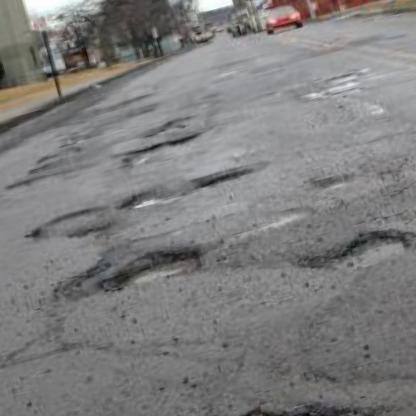pothole: (166, 367, 416, 416), (292, 217, 416, 286), (93, 233, 212, 298), (125, 123, 207, 158), (117, 179, 189, 217), (188, 155, 261, 189)
